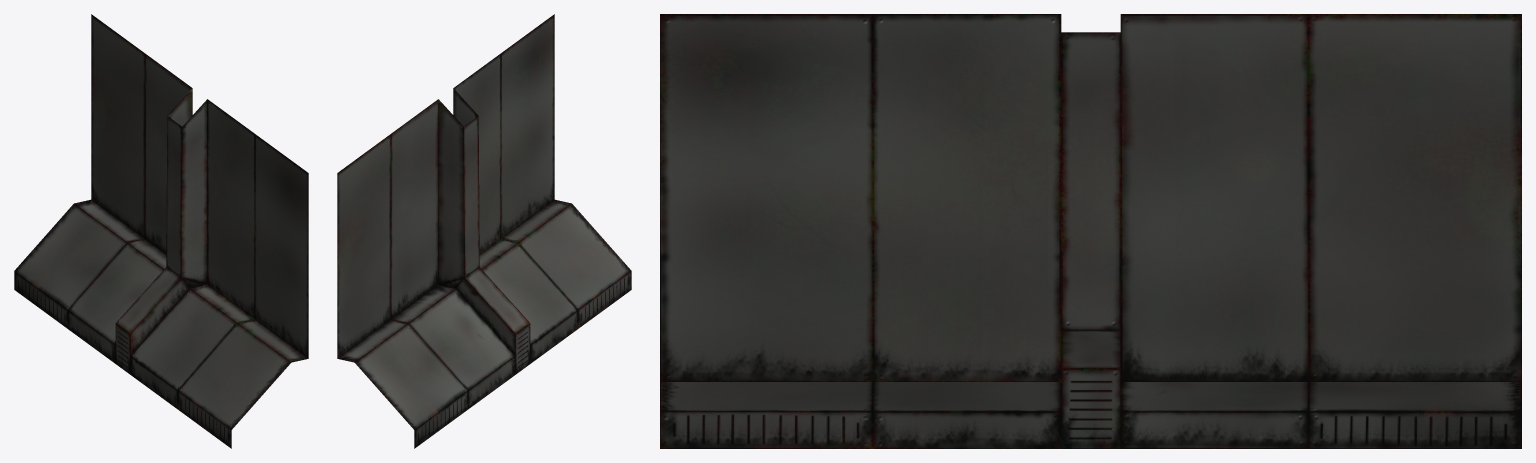
File: StraightTunnel Wall_noHatch.fbx
3 renders of one model, left to right at view 1: azimuth 30°, elevation 25°; view 2: azimuth 150°, elevation 25°; view 3: azimuth 270°, elevation 25°, orthographic. The views are drawn at different scales.
Parts seen in each view (by area): view 1: Wall_noHatch; view 2: Wall_noHatch; view 3: Wall_noHatch.
Boxes of the visible parts, x1=… form: Wall_noHatch: x1=14, y1=14, x2=308, y2=448; Wall_noHatch: x1=337, y1=14, x2=631, y2=448; Wall_noHatch: x1=660, y1=14, x2=1521, y2=448.
Bounding box in the file's own units: 1000 × 204 × 652.
